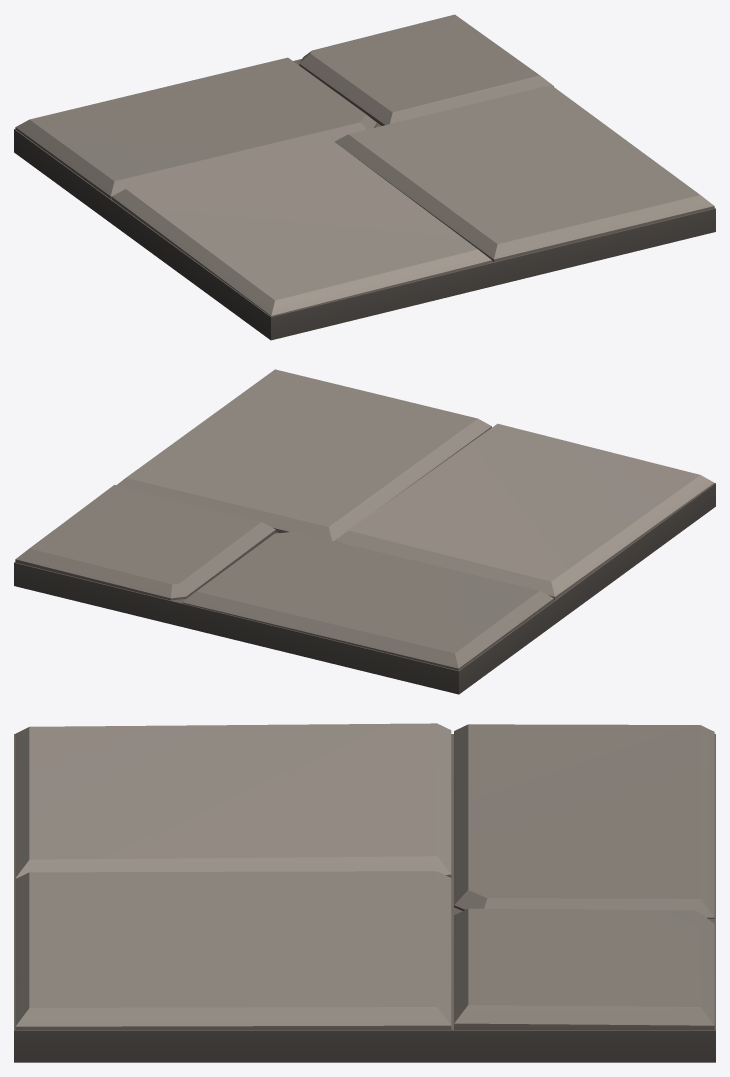
The model's file is floor_flagstones_small_C.glb.
3 renders of one model, top to bottom at view 1: azimuth 30°, elevation 25°; view 2: azimuth 150°, elevation 25°; view 3: azimuth 270°, elevation 25°, orthographic. The views are drawn at different scales.
Visible parts, largest first — view 1: Item; view 2: Item; view 3: Item.
Boxes of the visible parts, x1=… form: Item: x1=14, y1=14, x2=715, y2=340; Item: x1=14, y1=369, x2=715, y2=694; Item: x1=14, y1=723, x2=715, y2=1062.
Size of the model in its own units: 2 by 0.1613 by 2.
Materials: 1 (1 with a texture image).
